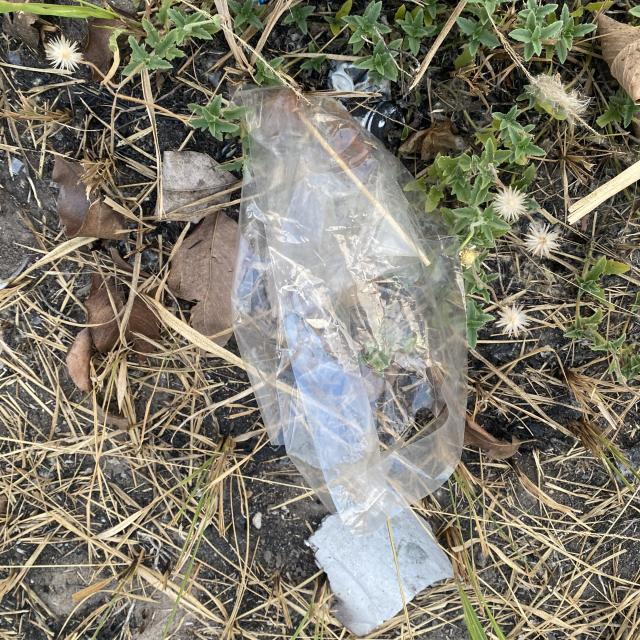Single-layer Plastic: (232, 88, 466, 536)
